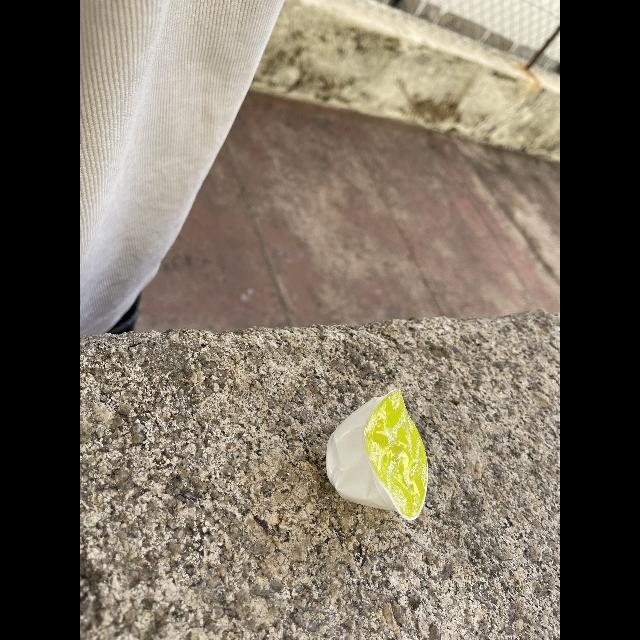damaged_capsule: (312, 381, 448, 531)
